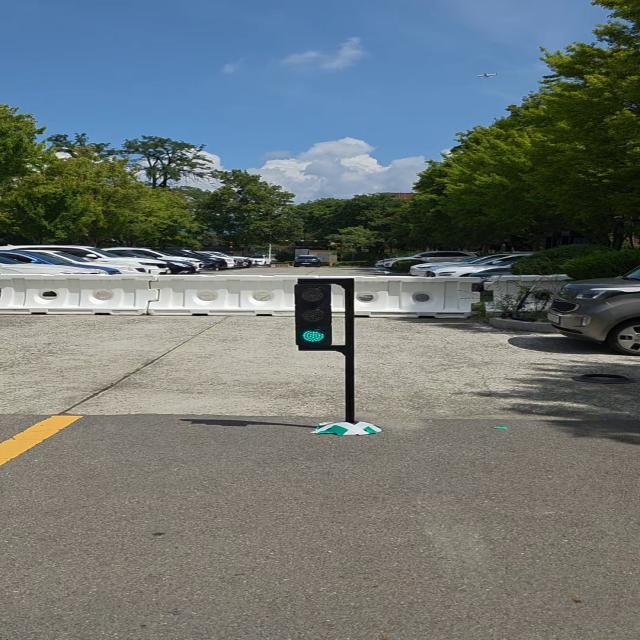green: (295, 279, 333, 352)
